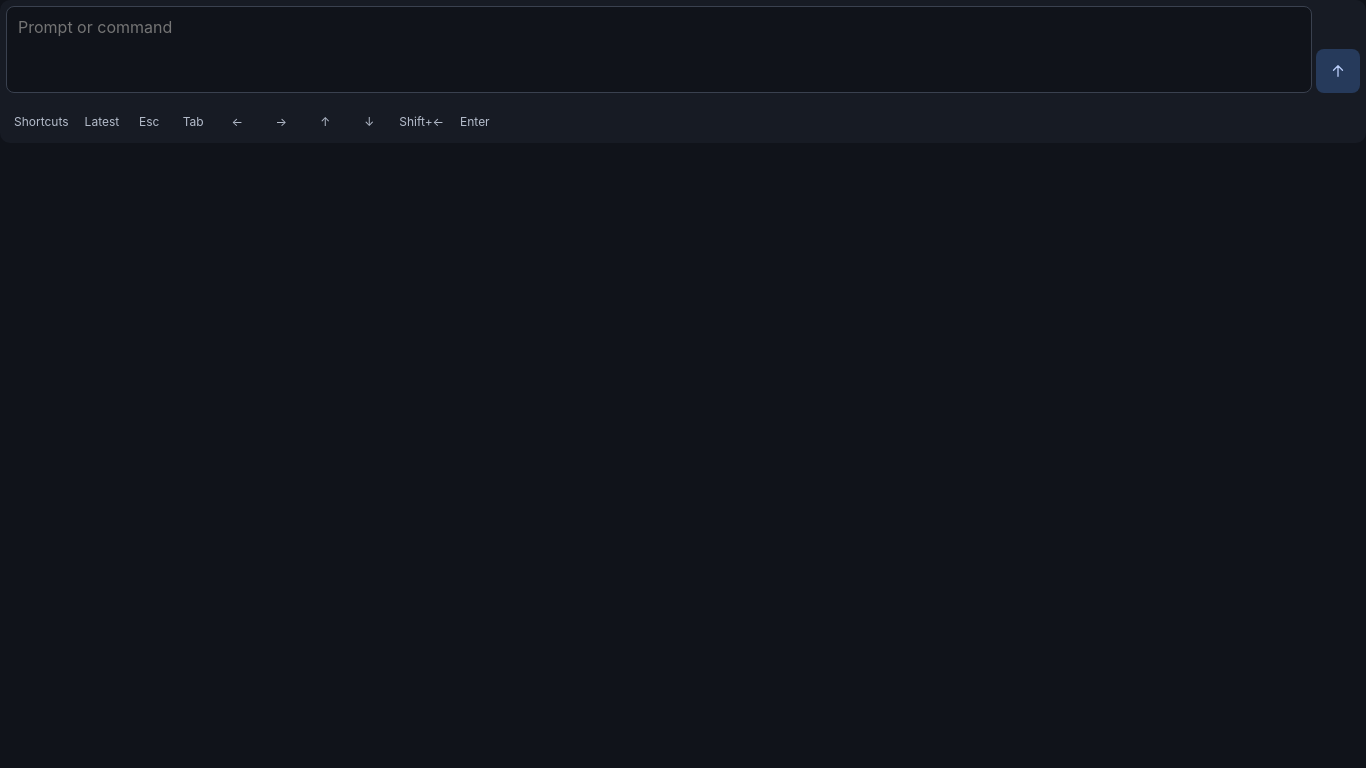
offers Ctrl-C and Ctrl-D through the shortcuts catalogue
The image size is (1366, 768).
expect the button "Ctrl" is not shown: met
expect the button "Ctrl-C" is not shown: met
What coordinates should you click on to do the following:
click the button "Shortcuts"
I would click on:
 (41, 121)
Its box is [6,99,77,143].
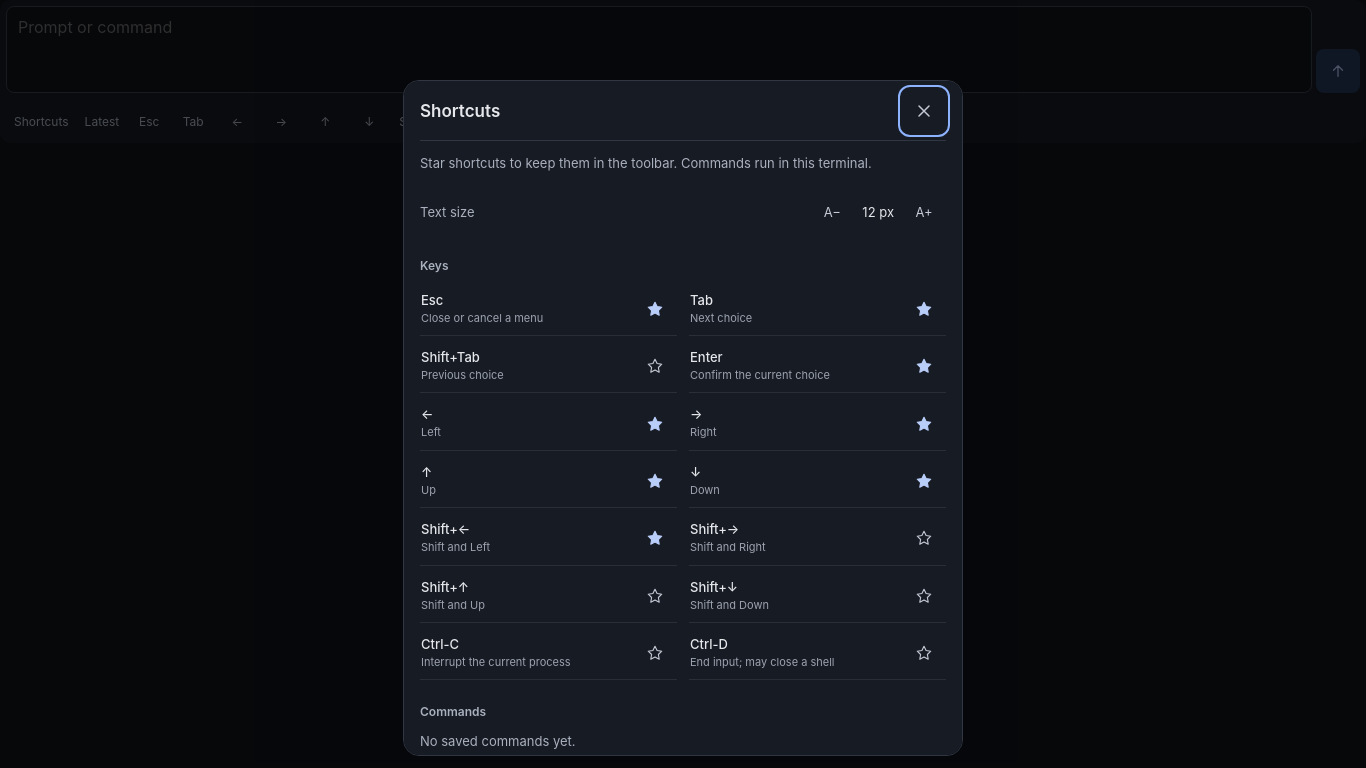
expect the dialog "Shortcuts" is shown: met, box [403,80,963,756]
expect the text "Interrupt the current process" is shown: met, box [421,655,571,669]
expect the text "End input; may close a shell" is shown: met, box [690,655,834,669]
